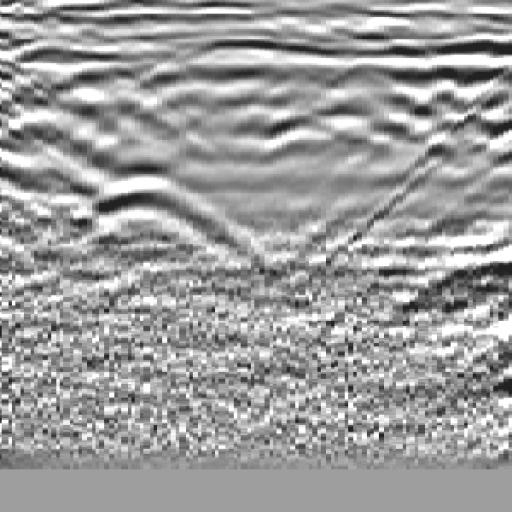metalic: (64, 38, 249, 300)
nonmetalic: (417, 44, 512, 291)
